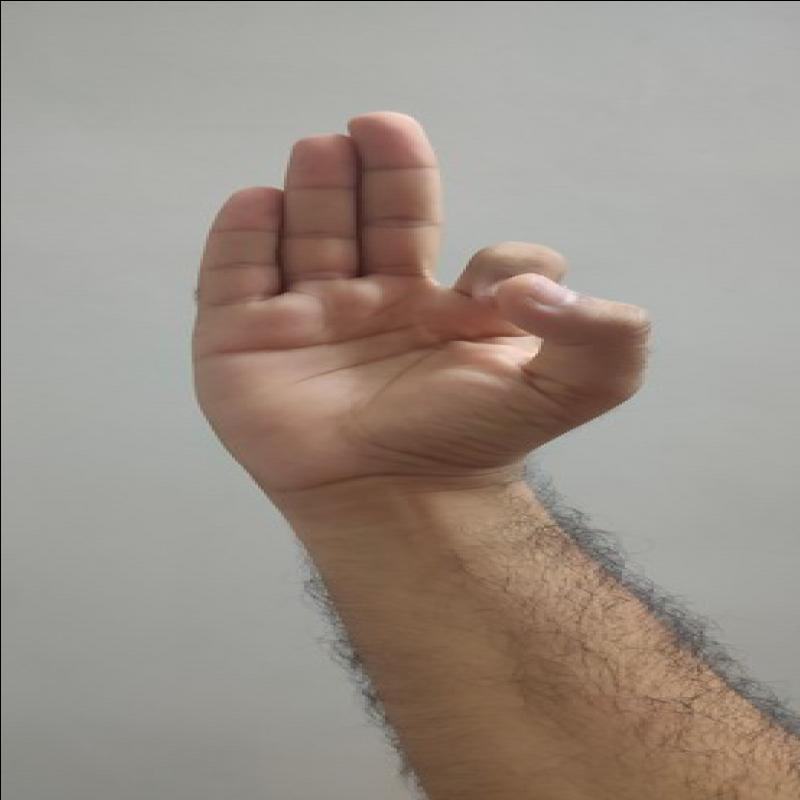Mudraakhyam: (182, 100, 663, 505)
